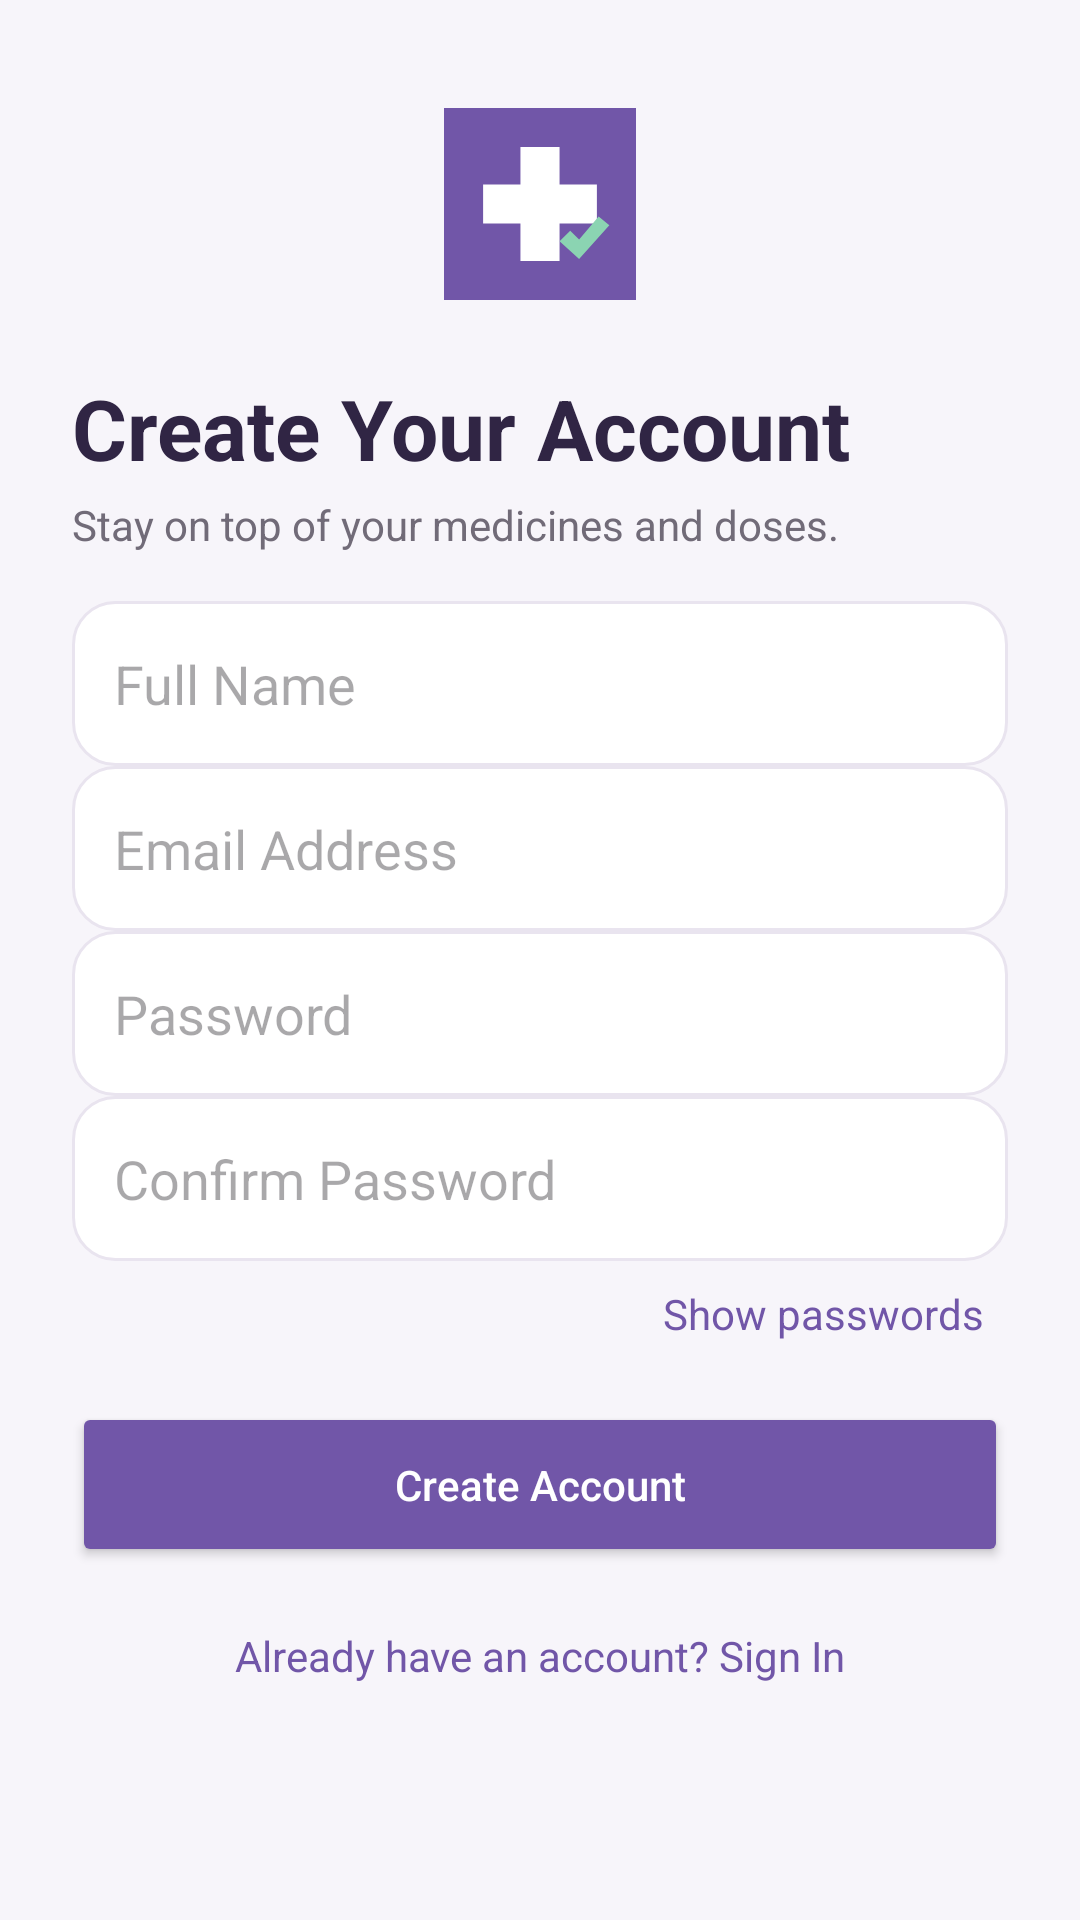

Locate icon controls on the screen. Image size 1080x1920, boxes as (x1, y1, x2, y2).
meditrack: (444, 108, 636, 300)
